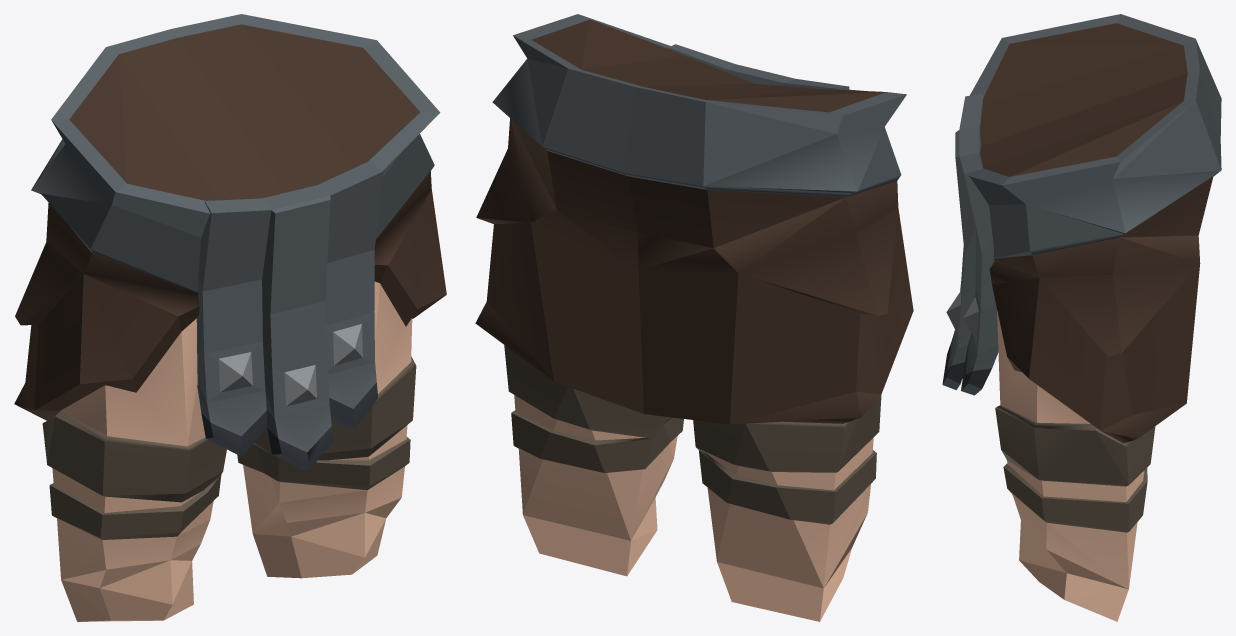
File: Chr_Hips_Female_01_Static.fbx
3 views of the same model, side by side, from view 1: azimuth 30°, elevation 25°; view 2: azimuth 150°, elevation 25°; view 3: azimuth 270°, elevation 25° (orthographic). The views are drawn at different scales.
Visible parts, largest first — view 1: Chr_Hips_Female_01_Static; view 2: Chr_Hips_Female_01_Static; view 3: Chr_Hips_Female_01_Static.
Boxes of the visible parts, <box> form: Chr_Hips_Female_01_Static: <box>14,14,446,621</box>; Chr_Hips_Female_01_Static: <box>475,14,913,621</box>; Chr_Hips_Female_01_Static: <box>942,14,1221,621</box>.
Bounding box in the file's own units: 0.4588 × 0.5783 × 0.298.
